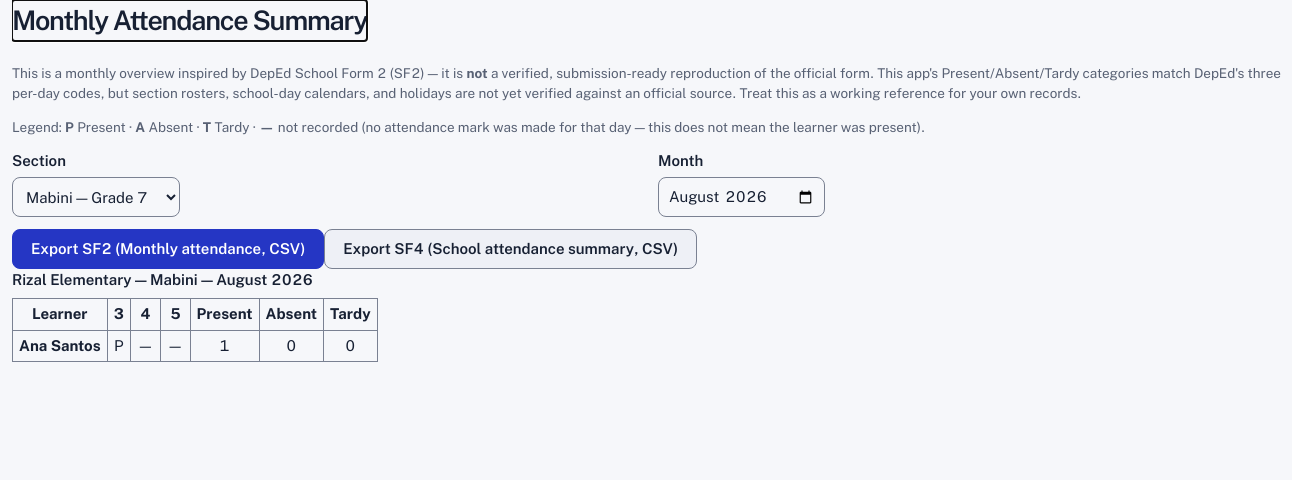
it: MonthlySummaryScreen › shows an error when the section could not be resolved for export
The image size is (1292, 480).
Expected: the column heading "Ana Santos" is shown, [12, 330, 107, 362]
Step 1. Click the button "Export SF2 (Monthly attendance, CSV)" → (168, 249), box [12, 229, 324, 269]
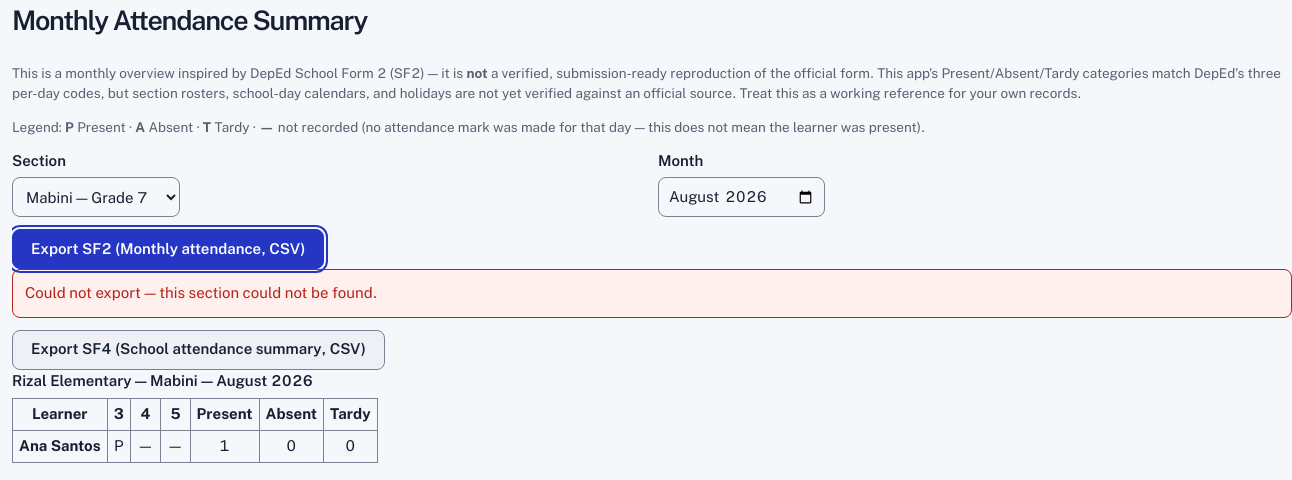
Expected: the text "Could not export — this section could not be found." is shown, [12, 269, 1291, 318]
